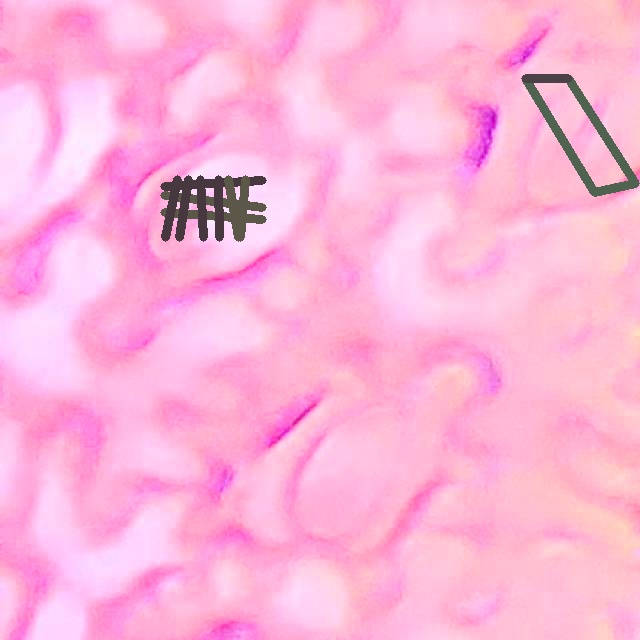close: (160, 175, 266, 241)
open: (521, 74, 639, 196)
